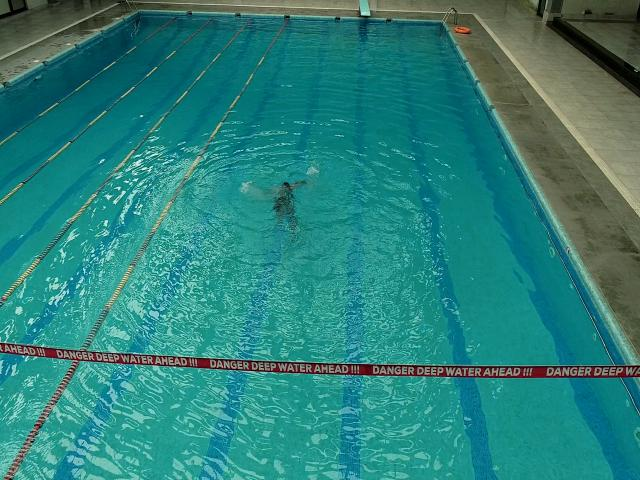drowning: (260, 180, 310, 228)
